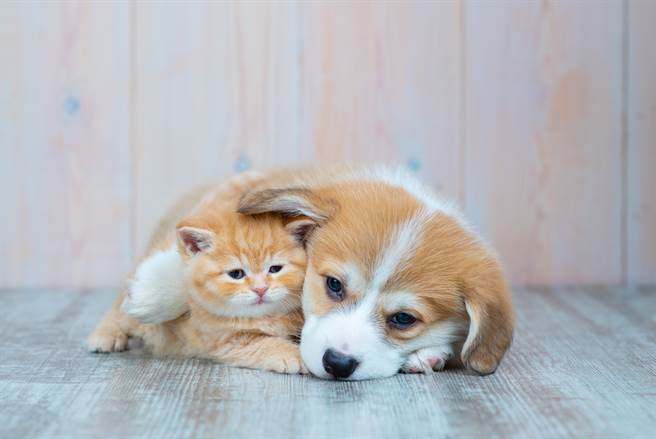cat: (94, 208, 305, 374)
dog: (242, 143, 528, 400)
